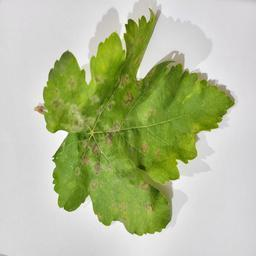Powdery-Mildew: (75, 124, 122, 177), (43, 65, 79, 106), (125, 179, 159, 221), (107, 70, 137, 110), (62, 104, 95, 139), (91, 181, 121, 213), (95, 34, 123, 66), (177, 122, 200, 159), (177, 83, 204, 112), (142, 99, 168, 127), (136, 141, 165, 161)
